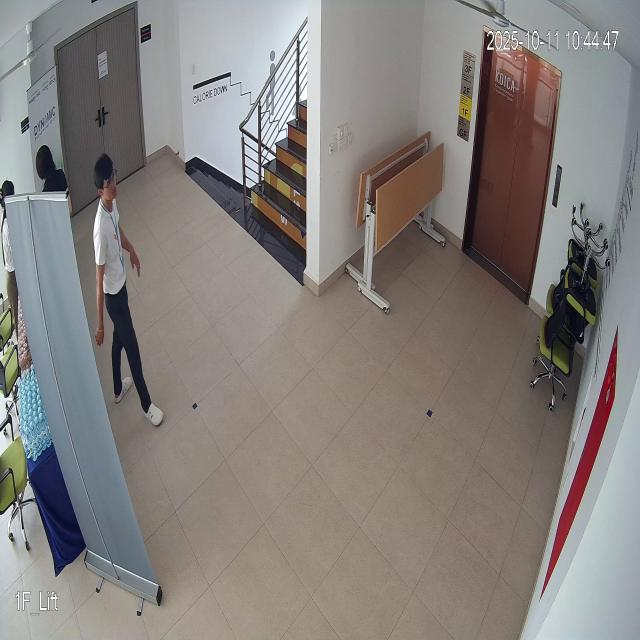face: (92, 152, 128, 211)
